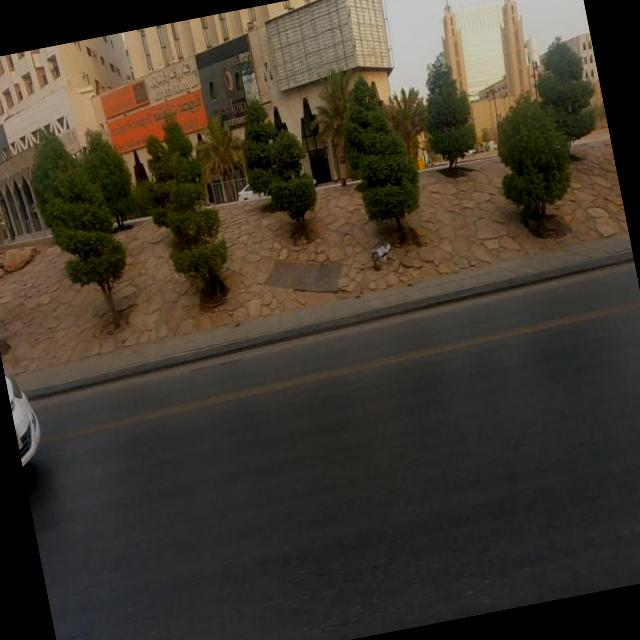debris: (350, 193, 422, 314)
